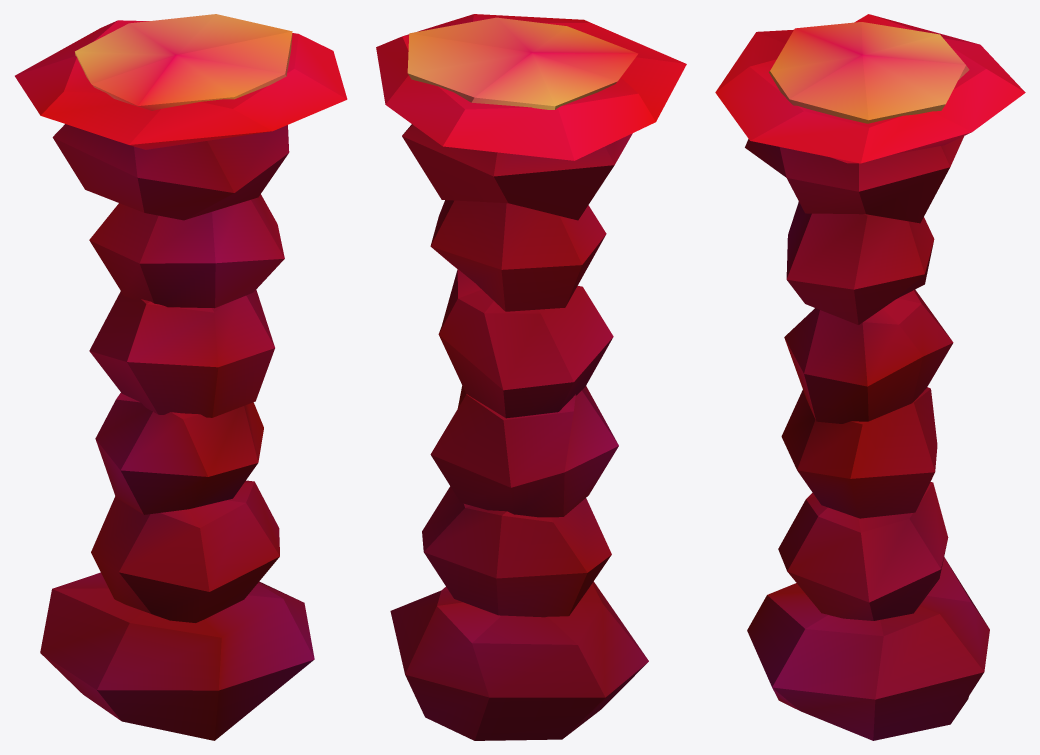
Rendered from Hoodoo_02.fbx.
3 renders of one model, left to right at view 1: azimuth 30°, elevation 25°; view 2: azimuth 150°, elevation 25°; view 3: azimuth 270°, elevation 25°, orthographic.
Visible parts, largest first — view 1: Hoodoo_02; view 2: Hoodoo_02; view 3: Hoodoo_02.
Part boxes in pixels (bbox=[...]): Hoodoo_02: bbox=[15, 14, 347, 740]; Hoodoo_02: bbox=[376, 14, 686, 740]; Hoodoo_02: bbox=[715, 14, 1025, 740].
Bounding box in the file's own units: 4.66 × 10.18 × 4.42.
